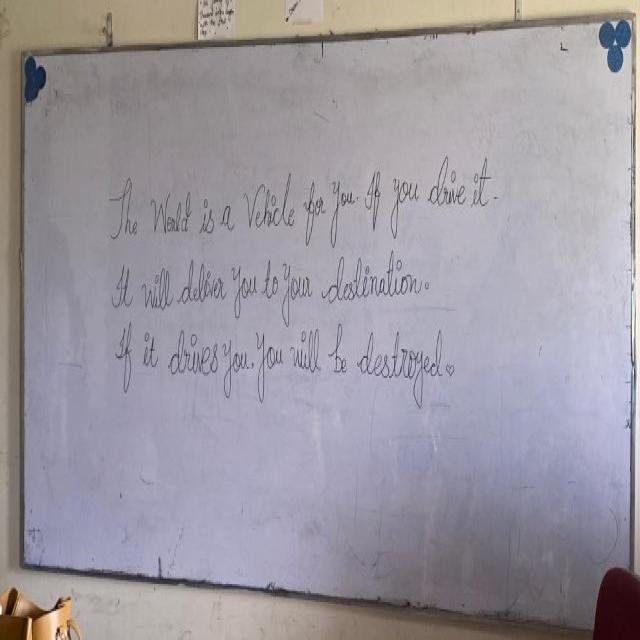White-board: (26, 17, 631, 636)
